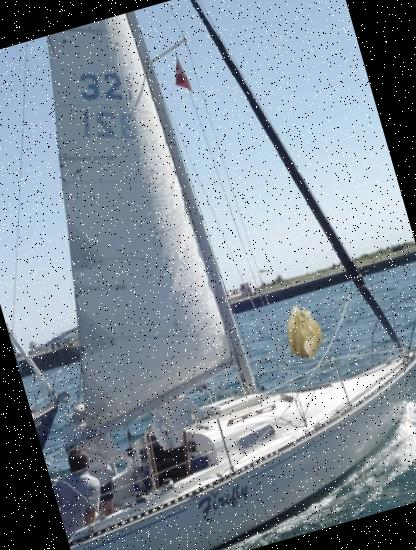Physalis: (268, 296, 340, 369)
